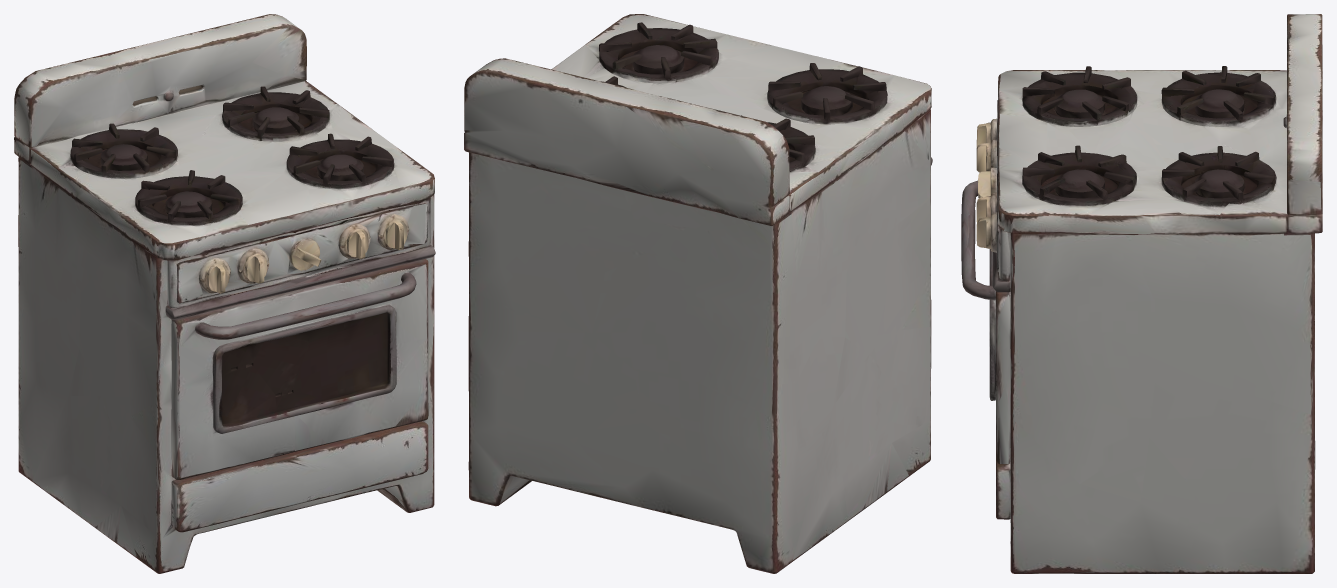
File: stove_cook_gazovaya_idle.glb
3 views of the same model, side by side, from view 1: azimuth 30°, elevation 25°; view 2: azimuth 150°, elevation 25°; view 3: azimuth 270°, elevation 25° (orthographic). The views are drawn at different scales.
Parts seen in each view (by area): view 1: tripo_node_b27542c7-3de7-4dbd-b95e-e6438930cbdc; view 2: tripo_node_b27542c7-3de7-4dbd-b95e-e6438930cbdc; view 3: tripo_node_b27542c7-3de7-4dbd-b95e-e6438930cbdc.
Boxes of the visible parts, x1,y1,x2,y2 form: tripo_node_b27542c7-3de7-4dbd-b95e-e6438930cbdc: [14, 14, 435, 573]; tripo_node_b27542c7-3de7-4dbd-b95e-e6438930cbdc: [464, 14, 932, 573]; tripo_node_b27542c7-3de7-4dbd-b95e-e6438930cbdc: [961, 14, 1322, 573].
Size of the model in its own units: 0.6627 by 0.8999 by 0.6924.
Materials: 1 (1 with a texture image).
